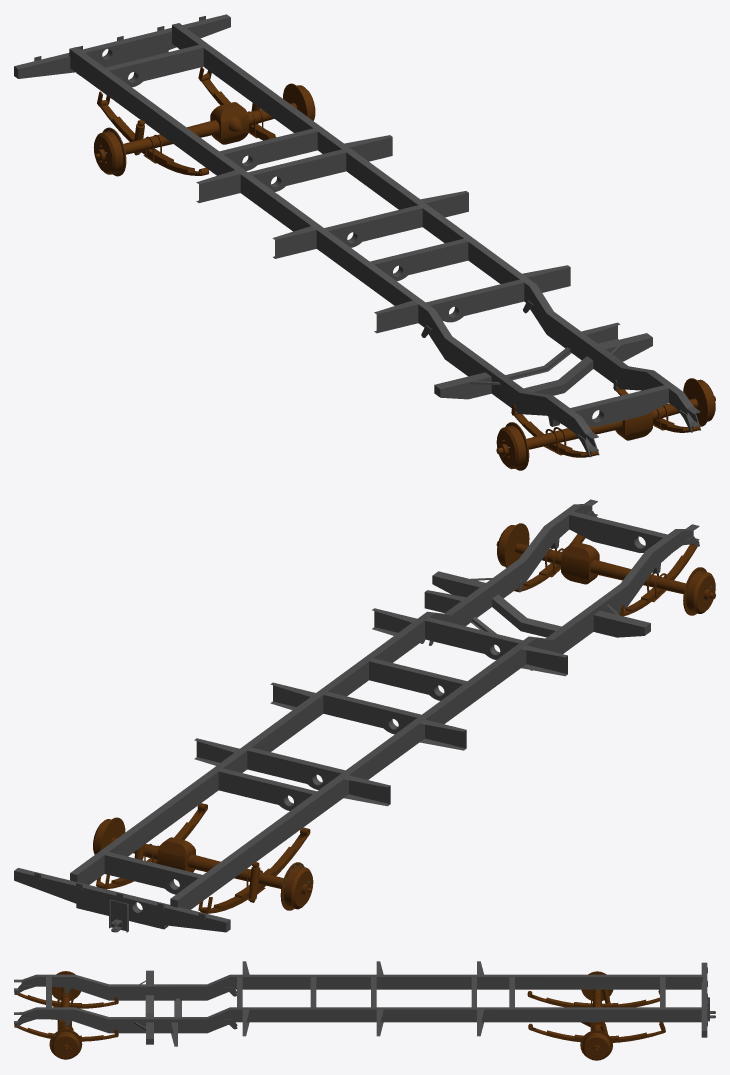
The model's file is truckRama.obj.
The picture shows the model from 3 angles, top to bottom: view 1: azimuth 30°, elevation 25°; view 2: azimuth 150°, elevation 25°; view 3: azimuth 270°, elevation 25°; orthographic projection. The views are drawn at different scales.
Parts seen in each view (by area): view 1: TruckRama; view 2: TruckRama; view 3: TruckRama.
Part boxes in pixels (x1,y1,x2,y2): TruckRama: (14, 14, 715, 470); TruckRama: (14, 499, 715, 932); TruckRama: (14, 961, 715, 1060).
Bounding box in the file's own units: 49.1 × 12.58 × 208.
